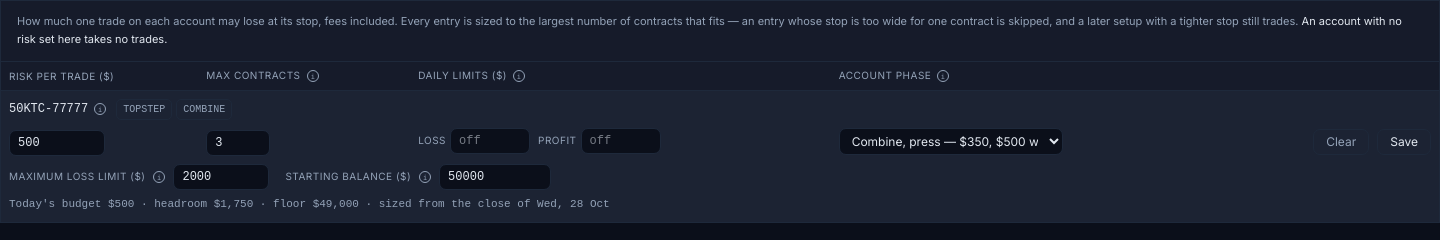
Test: AccountRiskBlock — the account phase › combine_press: shows the press threshold for that phase alone, prefilled at 1500
Select "Combine, press — $350, $500 when headroom clears the press threshold" in the dropdown named "Account phase for 50KTC-77777": [951, 141] box top-left (839, 128), bottom-right (1063, 155)
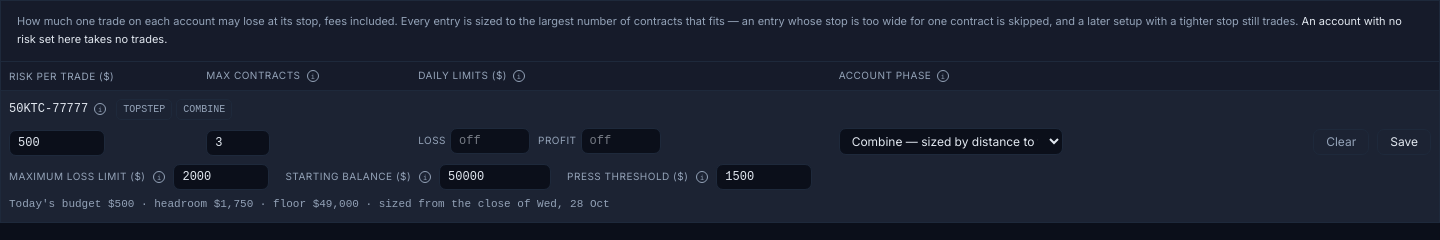
Check: the number field labelled "Maximum loss limit ($)" is shown, box top-left (174, 164), bottom-right (270, 190)
Check: the number field labelled "Press threshold ($)" holds "1500", box top-left (716, 164), bottom-right (812, 190)
Select "Combine — sized by distance to the trailing floor" in the dropdown named "Account phase for 50KTC-77777": [951, 141] box top-left (839, 128), bottom-right (1063, 155)
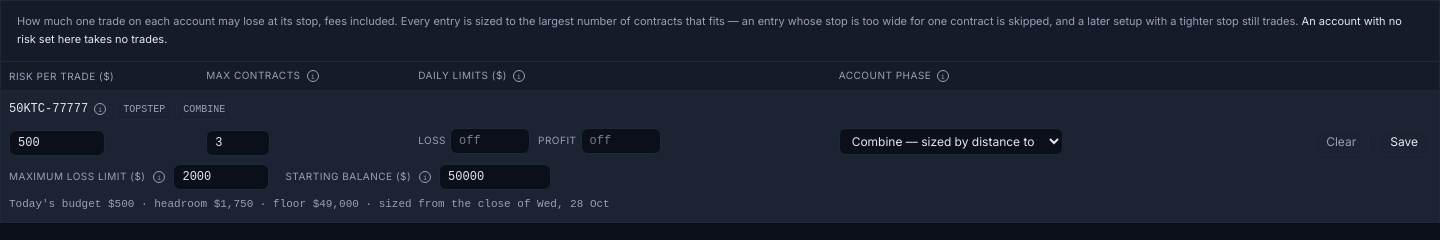
Check: the label is gone
